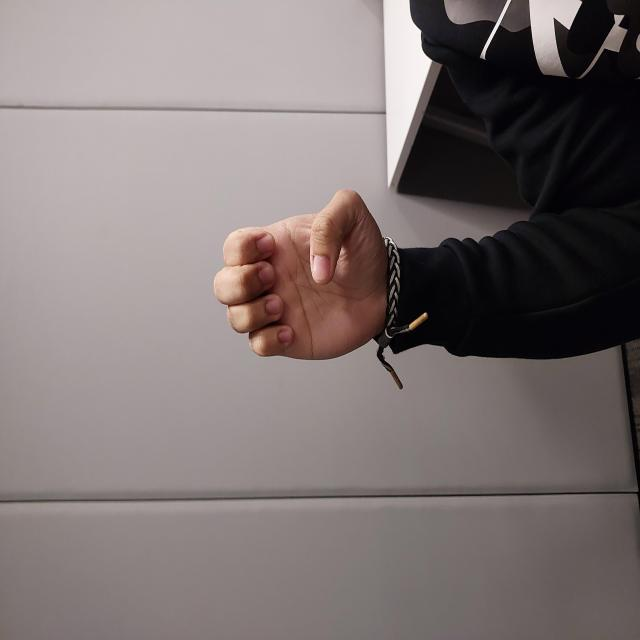E: (278, 212, 454, 389)
